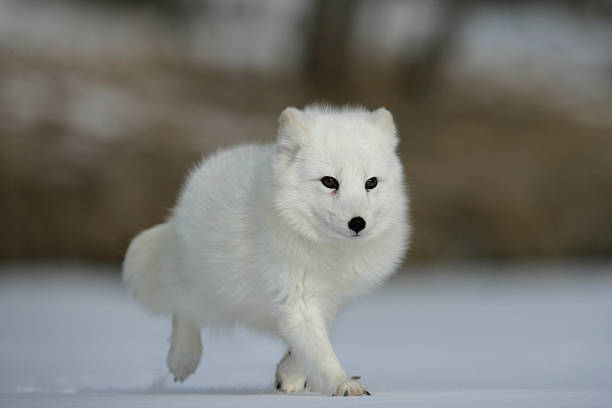arcticfox: (296, 138, 398, 263)
